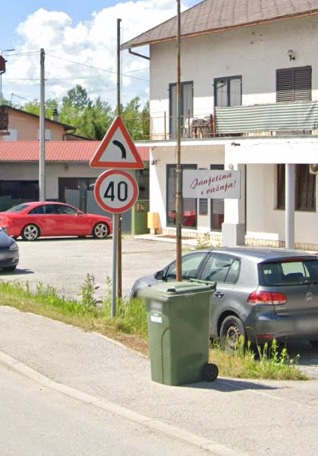Ograničenje brzine 40: (94, 169, 139, 213)
